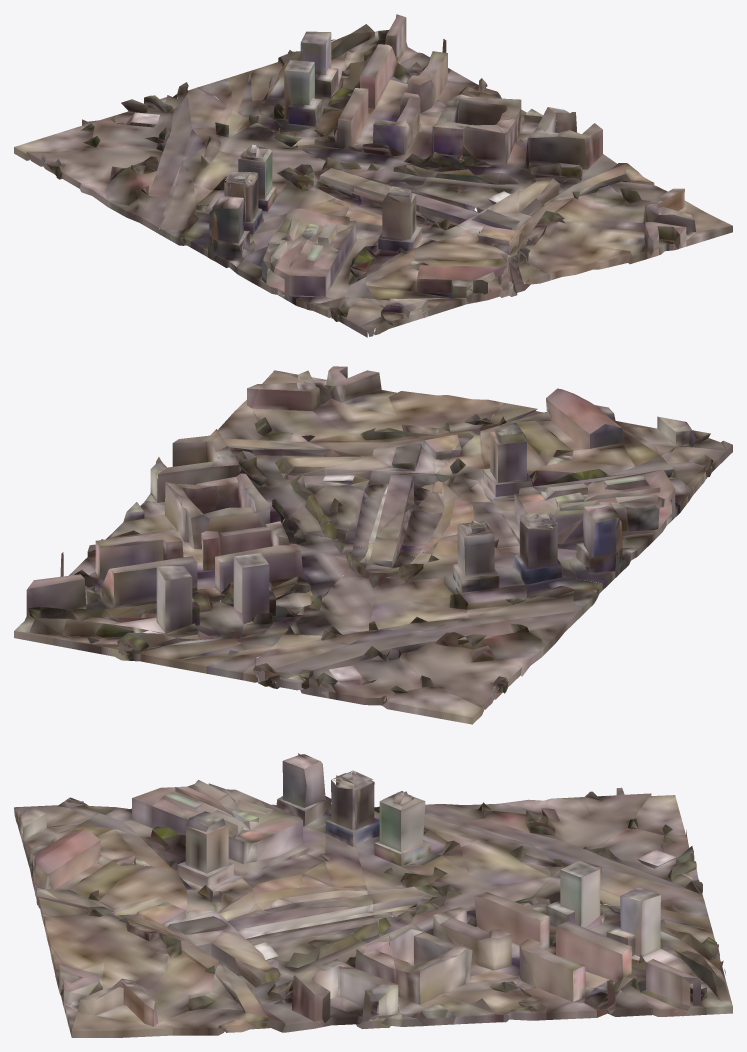
3 views of the same model, one above another, from view 1: azimuth 30°, elevation 25°; view 2: azimuth 150°, elevation 25°; view 3: azimuth 270°, elevation 25° (orthographic). The views are drawn at different scales.
Parts seen in each view (by area): view 1: Mesh_0; view 2: Mesh_0; view 3: Mesh_0.
Part boxes in pixels (left/top/right/bottom): Mesh_0: left=14, top=14, right=732, bottom=337; Mesh_0: left=14, top=366, right=732, bottom=724; Mesh_0: left=14, top=753, right=732, bottom=1037.
Bounding box in the file's own units: 533 × 82.16 × 659.
Materials: 2 (2 with a texture image).
